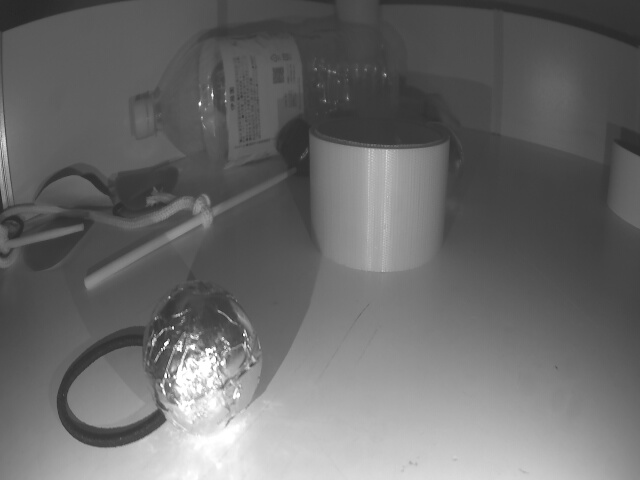Live: (142, 284, 263, 434)
